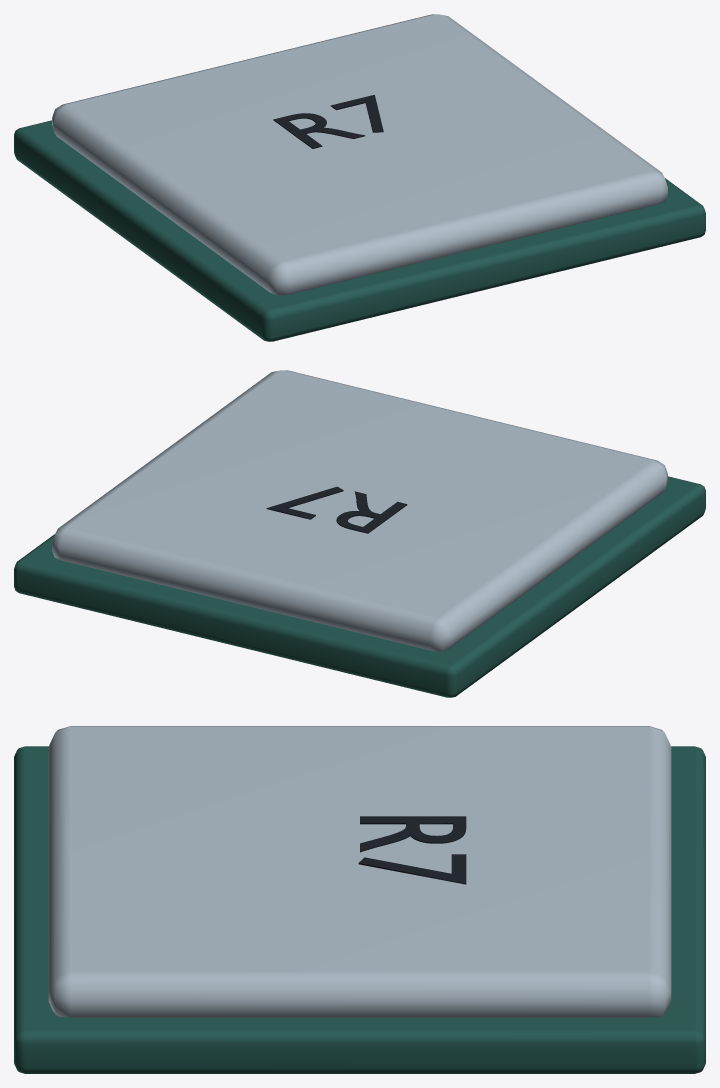
3 renders of one model, top to bottom at view 1: azimuth 30°, elevation 25°; view 2: azimuth 150°, elevation 25°; view 3: azimuth 270°, elevation 25°, orthographic. The views are drawn at different scales.
Parts seen in each view (by area): view 1: r7 housing; view 2: r7 housing; view 3: r7 housing.
Part boxes in pixels (x1,y1,x2,y2): r7 housing: [14, 14, 705, 341]; r7 housing: [14, 370, 705, 697]; r7 housing: [14, 726, 705, 1073].
Size of the model in its own units: 40 by 5.38 by 40.
